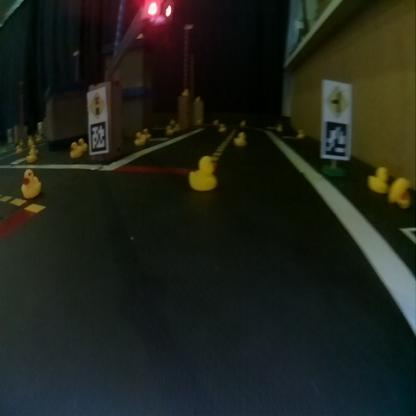Duckie: (188, 156, 215, 190), (389, 177, 409, 207), (20, 171, 40, 198), (368, 166, 388, 192), (69, 143, 82, 158), (234, 131, 246, 145), (134, 132, 145, 144), (26, 148, 36, 161), (78, 138, 86, 151), (218, 122, 223, 130)
Intersection sign: (325, 84, 350, 115)
QR code: (323, 121, 347, 158), (87, 121, 108, 152)
Signal sign: (89, 92, 107, 119)
Traffic light: (138, 1, 172, 25)
